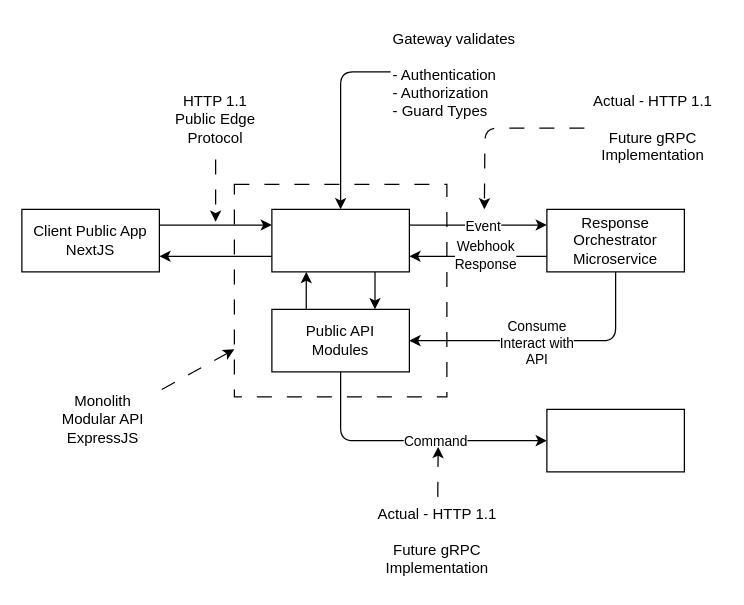
Some shapes in this 744 by 605 pixel diagram are drawn without their labels. The shapes that lost their labels are listed below. From the top down, each one's centre as x and y in pixels, then its label:
the point at 340,240: Gateway
the point at 615,440: Multimedia Processing Microservice
